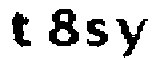8: (45, 7, 80, 48)
s: (84, 17, 109, 49)
t: (9, 9, 34, 50)
y: (112, 16, 147, 60)
